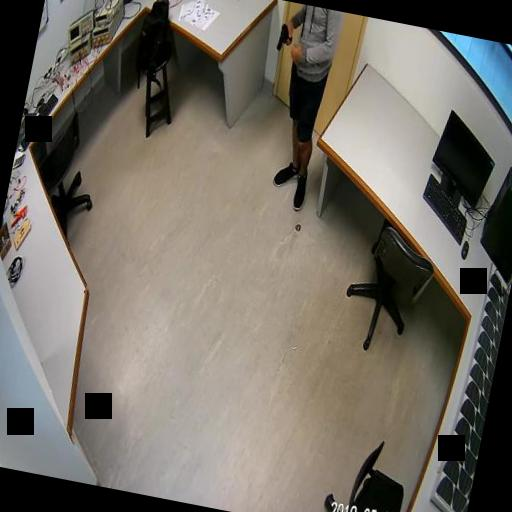Handgun: (275, 20, 294, 52)
